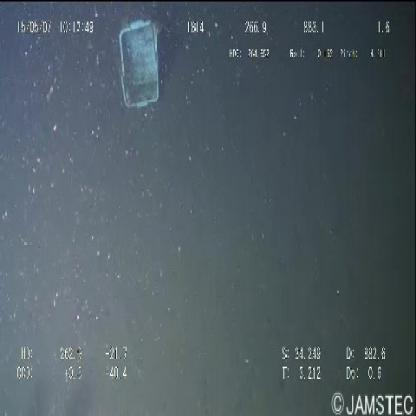Rác: (112, 7, 163, 116)
